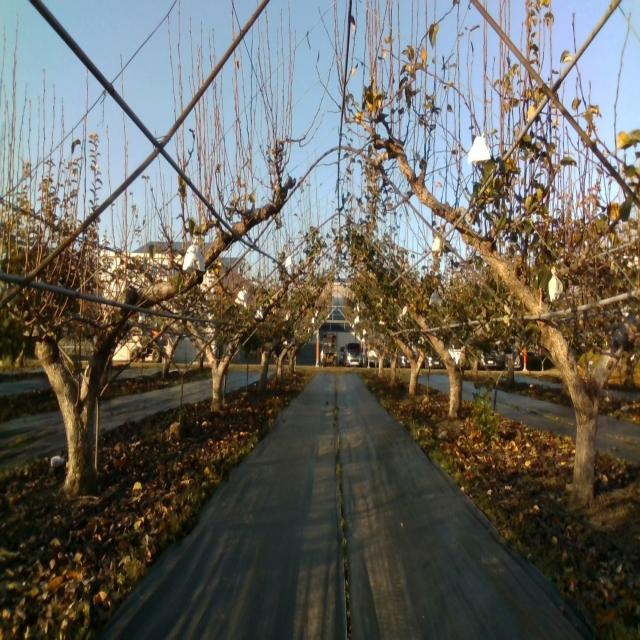pearbags: (182, 239, 205, 275), (468, 132, 491, 166), (548, 266, 562, 302), (235, 286, 247, 308), (429, 290, 441, 308)
